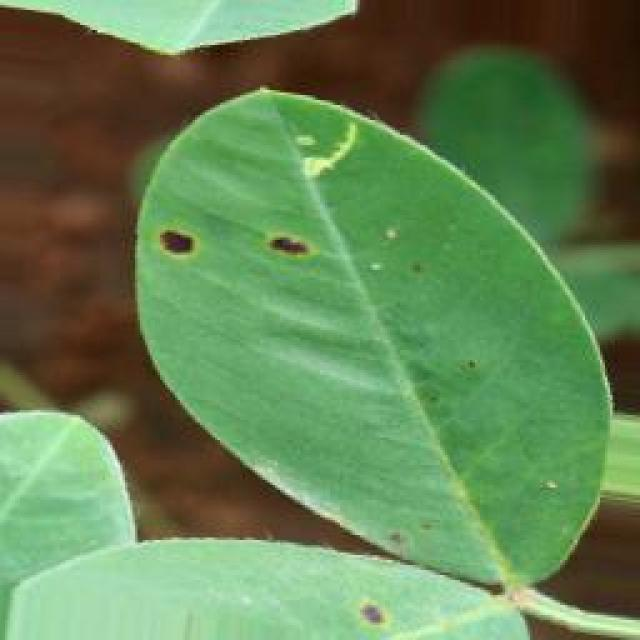Sigatoka: (349, 218, 436, 302), (240, 223, 320, 295), (444, 325, 509, 403), (134, 208, 208, 272), (325, 589, 402, 640), (366, 505, 416, 566)
